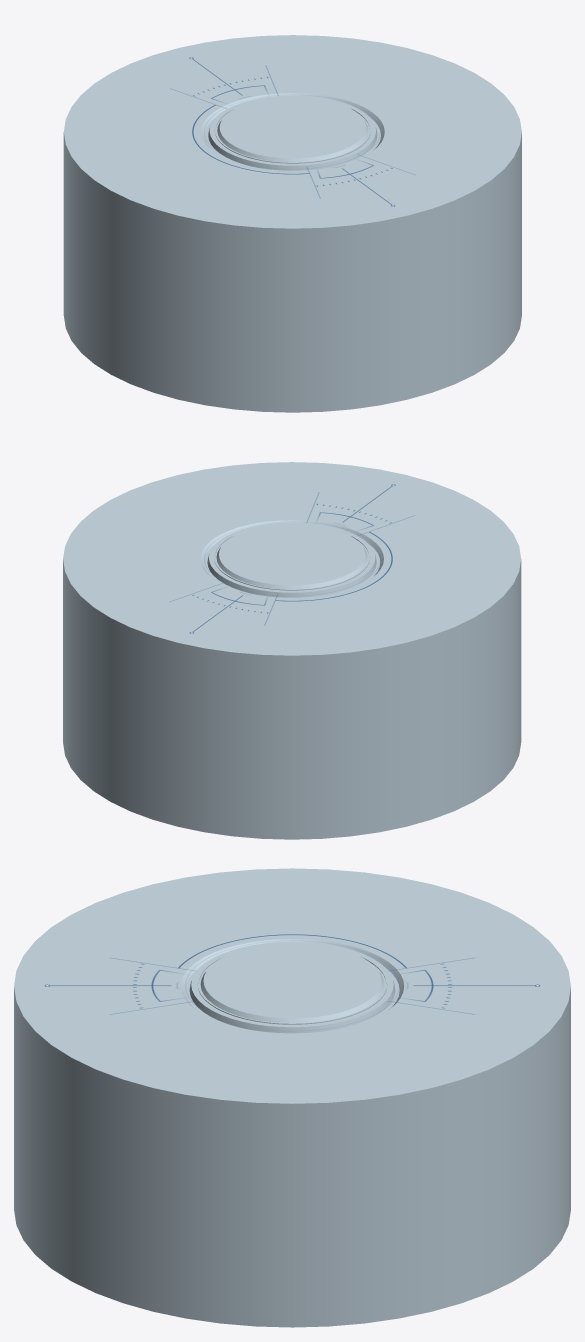
Rendered from sys背景.glb.
3 views of the same model, one above another, from view 1: azimuth 30°, elevation 25°; view 2: azimuth 150°, elevation 25°; view 3: azimuth 270°, elevation 25° (orthographic). The views are drawn at different scales.
Visible parts, largest first — view 1: 设备砥柱, 静态贴图.横; view 2: 设备砥柱, 静态贴图.横; view 3: 设备砥柱, 静态贴图.横.
Part boxes in pixels (bbox=[...]): 设备砥柱: bbox=[63, 35, 521, 412]; 静态贴图.横: bbox=[170, 57, 414, 206]; 设备砥柱: bbox=[63, 462, 521, 839]; 静态贴图.横: bbox=[170, 484, 414, 633]; 设备砥柱: bbox=[14, 868, 570, 1327]; 静态贴图.横: bbox=[44, 934, 540, 1014].
Size of the model in its own units: 9.81 by 4.45 by 9.81.
2 materials, 1 textured.
